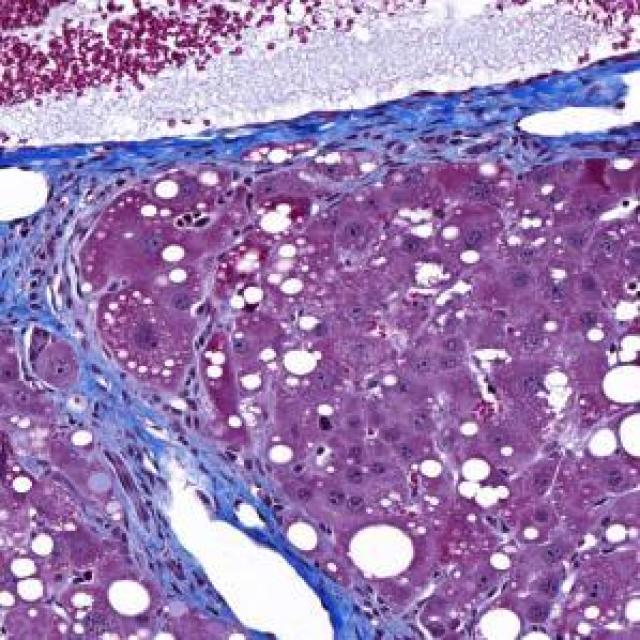fibrosis: (218, 73, 516, 188), (5, 242, 144, 445), (107, 477, 298, 580)
